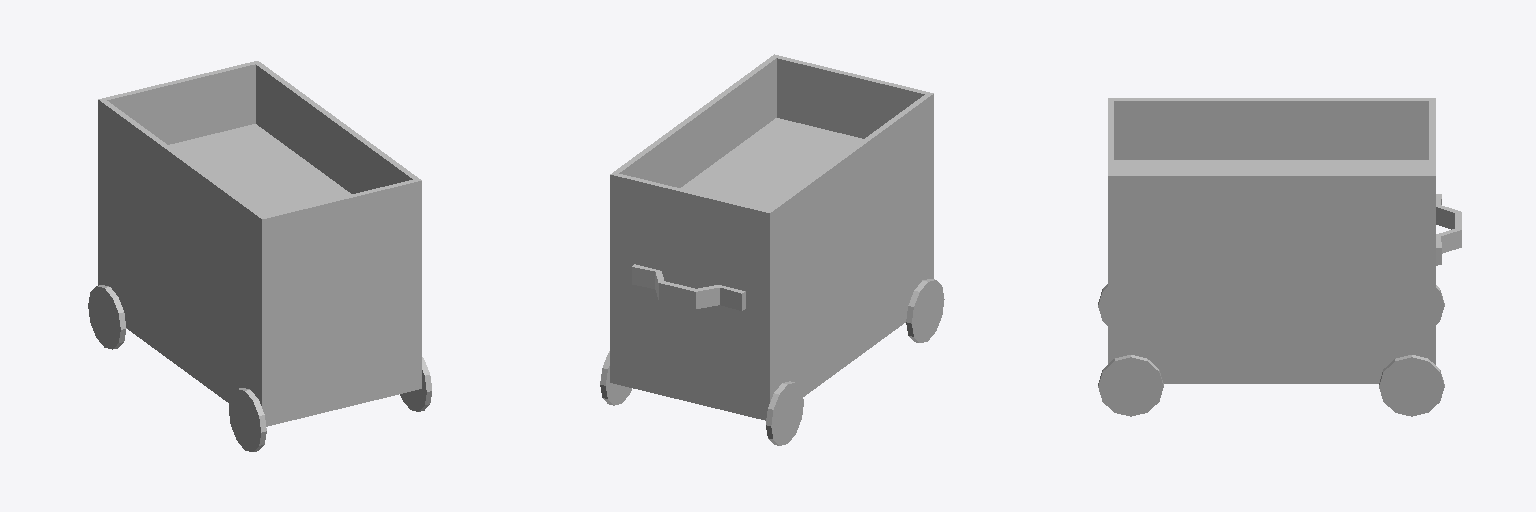
Rendered from cart_incoming.obj.
3 views of the same model, side by side, from view 1: azimuth 30°, elevation 25°; view 2: azimuth 150°, elevation 25°; view 3: azimuth 270°, elevation 25° (orthographic).
Visible parts, largest first — view 1: CartIncoming; view 2: CartIncoming; view 3: CartIncoming.
Part boxes in pixels (x1,y1,x2,y2): CartIncoming: (88,61,431,451); CartIncoming: (600,54,944,445); CartIncoming: (1098,98,1461,416).
Size of the model in its own units: 0.3013 by 0.4002 by 0.5542.